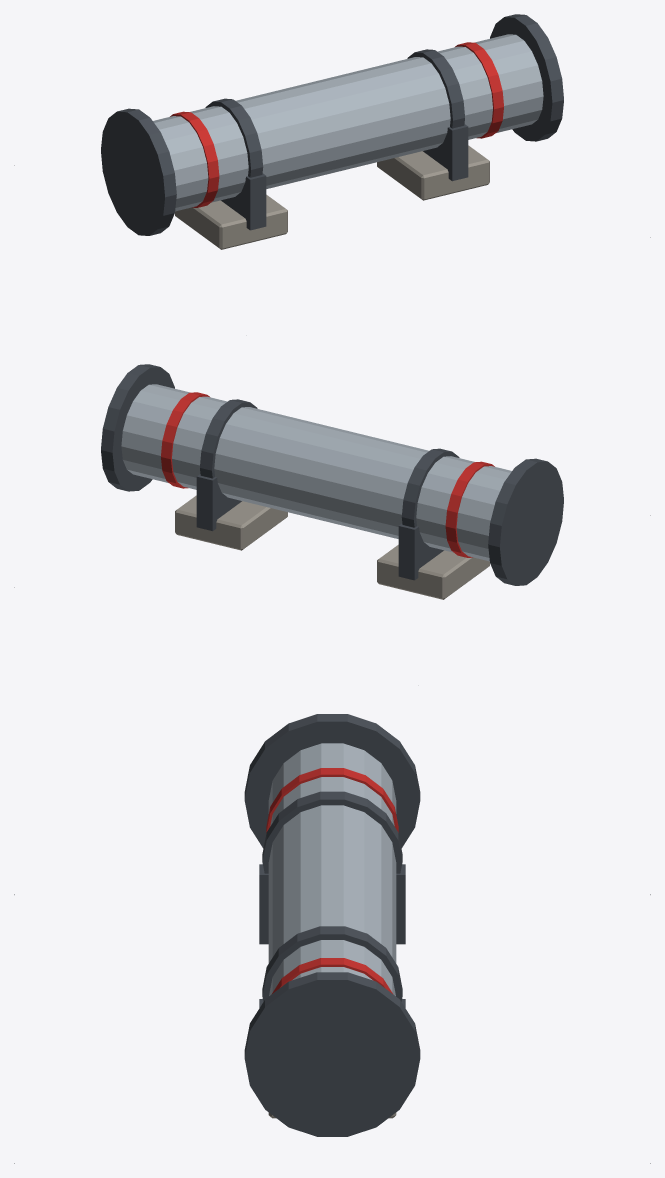
Rendered from tuyau_droit_t3.glb.
3 renders of one model, top to bottom at view 1: azimuth 30°, elevation 25°; view 2: azimuth 150°, elevation 25°; view 3: azimuth 270°, elevation 25°, orthographic. The views are drawn at different scales.
Visible parts, largest first — view 1: pieces_inox.014, pieces_acier_sombre.050, pieces_beton.030, pieces_rive_t3.014; view 2: pieces_inox.014, pieces_acier_sombre.050, pieces_beton.030, pieces_rive_t3.014; view 3: pieces_acier_sombre.050, pieces_inox.014, pieces_rive_t3.014.
Boxes of the visible parts, box(x1,y1,x2,y2) form: pieces_inox.014: box(153, 34, 543, 211); pieces_acier_sombre.050: box(101, 14, 563, 235); pieces_beton.030: box(175, 145, 489, 249); pieces_rive_t3.014: box(170, 42, 503, 207); pieces_inox.014: box(121, 384, 511, 561); pieces_acier_sombre.050: box(101, 364, 563, 585); pieces_beton.030: box(175, 495, 489, 599); pieces_rive_t3.014: box(161, 392, 494, 557); pieces_acier_sombre.050: box(244, 714, 420, 1136); pieces_inox.014: box(268, 743, 396, 995); pieces_rive_t3.014: box(266, 768, 398, 994).
Size of the model in its own units: 1 by 0.3159 by 1.
